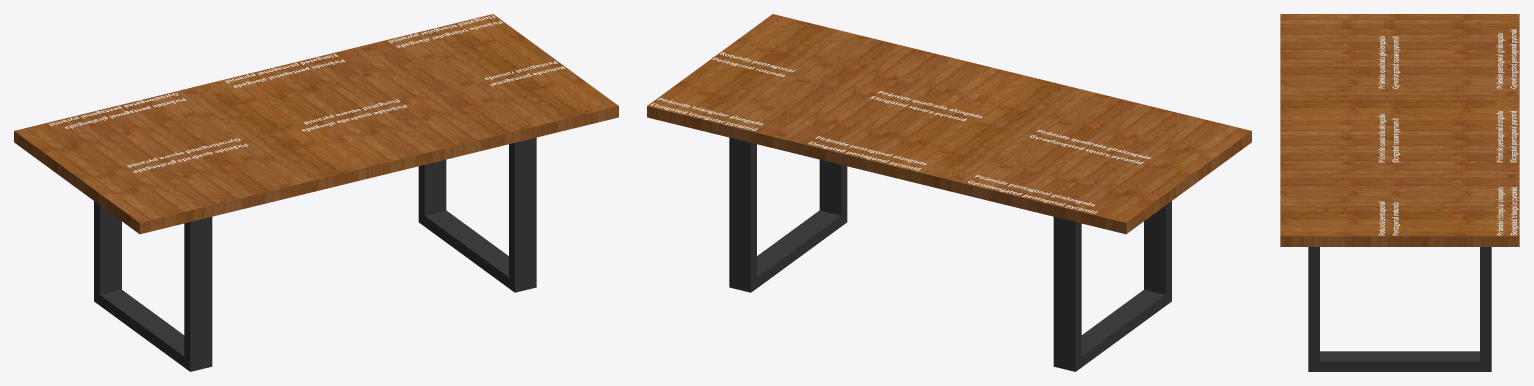
File: johnson1b.glb
3 views of the same model, side by side, from view 1: azimuth 30°, elevation 25°; view 2: azimuth 150°, elevation 25°; view 3: azimuth 270°, elevation 25° (orthographic). The views are drawn at different scales.
Parts seen in each view (by area): view 1: object 1, Composant#1 (×2), Pirâmide pentago#1, Pirâmide quadrad#1, Pirâmide pentago, Pirâmide triangu; view 2: object 1, Composant#1 (×2), Pirâmide pentago#1, Pirâmide quadrad#1, Pirâmide pentago, Pirâmide triangu, Pirâmide quadrad; view 3: object 1, Composant#1, Pirâmide pentago#1, Pirâmide pentago, Pirâmide quadrad#1, Pirâmide triangu, Pirâmide quadrad, Rotunda pentagon.
Boxes of the visible parts, left/top/right/bottom form: object 1: left=14, top=14, right=618, bottom=234; Composant#1 (×2): left=94, top=137, right=536, bottom=371; Pirâmide pentago#1: left=49, top=93, right=185, bottom=128; Pirâmide quadrad#1: left=127, top=138, right=247, bottom=172; Pirâmide pentago: left=225, top=54, right=344, bottom=87; Pirâmide triangu: left=388, top=15, right=502, bottom=47; object 1: left=647, top=14, right=1251, bottom=234; Composant#1 (×2): left=729, top=137, right=1171, bottom=371; Pirâmide pentago#1: left=968, top=175, right=1097, bottom=213; Pirâmide quadrad#1: left=1030, top=129, right=1150, bottom=164; Pirâmide pentago: left=808, top=136, right=926, bottom=170; Pirâmide triangu: left=650, top=98, right=762, bottom=130; Pirâmide quadrad: left=870, top=91, right=982, bottom=121; object 1: left=1280, top=14, right=1519, bottom=246; Composant#1: left=1308, top=247, right=1491, bottom=371; Pirâmide pentago#1: left=1496, top=29, right=1518, bottom=88; Pirâmide pentago: left=1496, top=111, right=1518, bottom=162; Pirâmide quadrad#1: left=1378, top=36, right=1400, bottom=88; Pirâmide triangu: left=1497, top=187, right=1518, bottom=235; Pirâmide quadrad: left=1378, top=114, right=1400, bottom=162; Rotunda pentagon: left=1378, top=201, right=1400, bottom=235.
Bounding box in the file's own units: 2.2 × 0.771 × 1.
3 materials, 1 textured.
